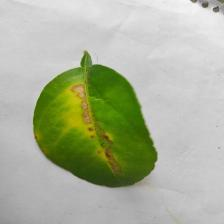canker: (58, 78, 129, 172)
